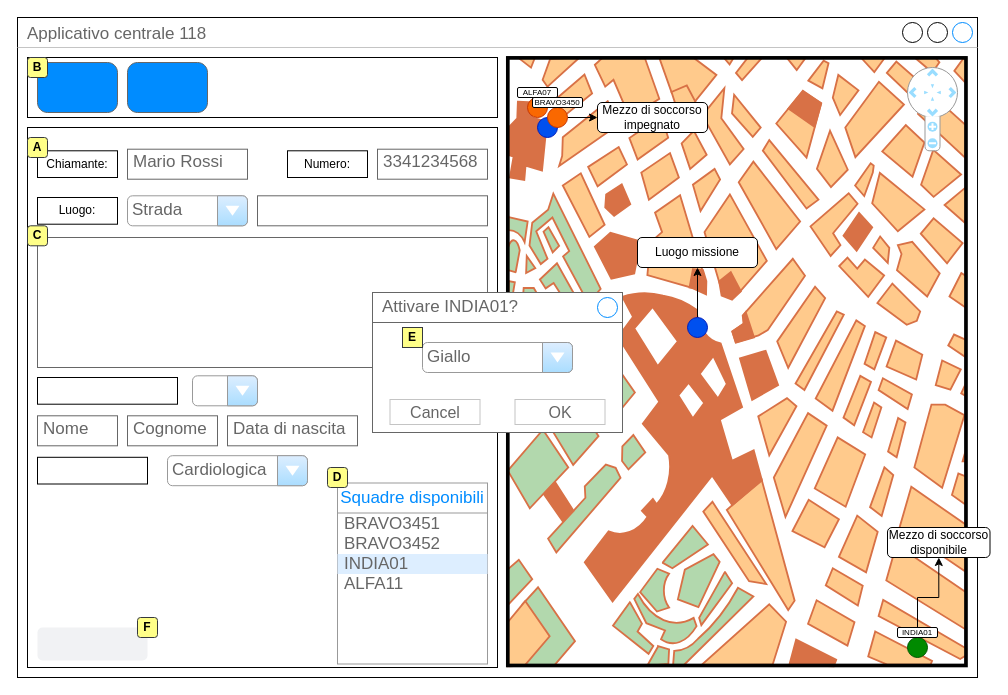
This 1008x695 diagram has some shape labels left out. Here are the shapes that lost their labels. From the top down, the box of each, then its label:
(36, 62, 118, 112): Nuova missione
(126, 62, 208, 112): Squadre
(256, 195, 488, 226): Piazza Matteotti 5
(36, 236, 488, 368): PZ Maschio, 60 anni circa, cosciente, dolore al petto, IMA pregresso
(36, 376, 178, 404): Dati anagrafici disponibili:
(192, 375, 258, 406): No
(36, 456, 148, 484): Classe patologica:
(37, 627, 147, 660): Invia modifiche
